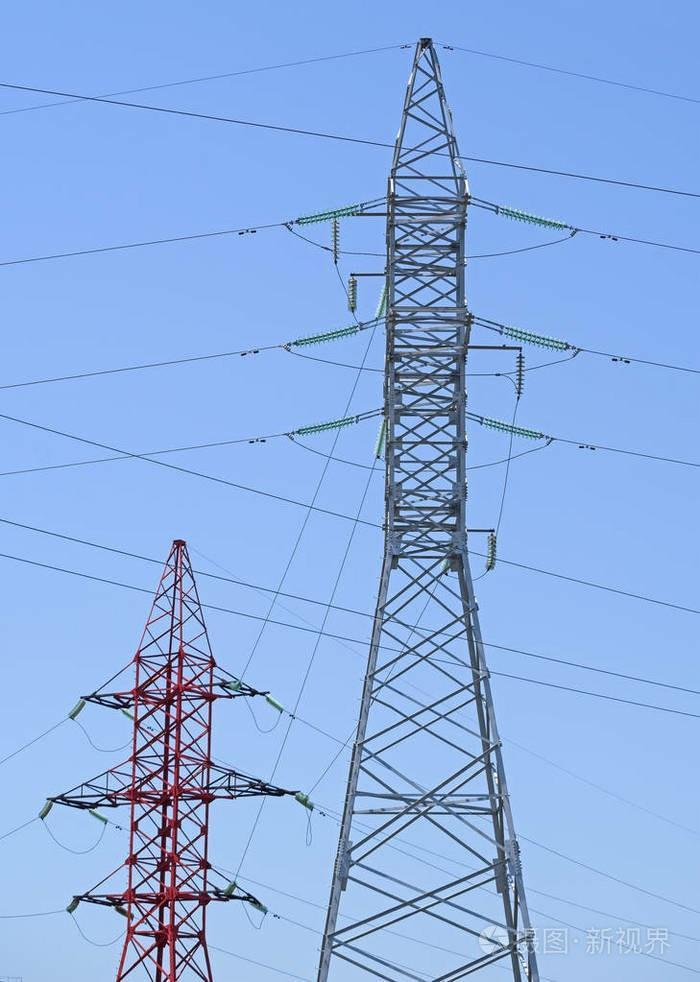power_tower: (291, 33, 574, 970), (88, 515, 258, 982)
